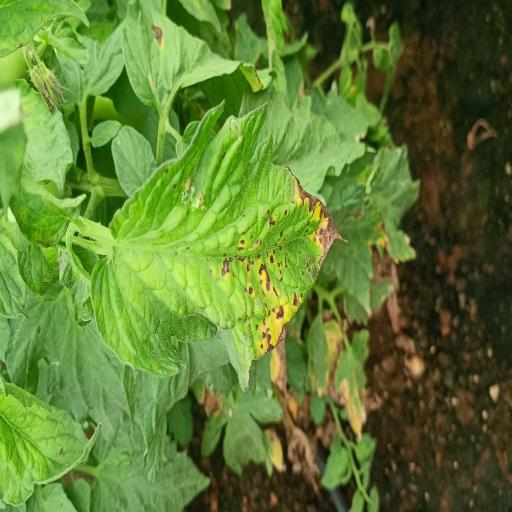Early Blight: (92, 92, 351, 382)
